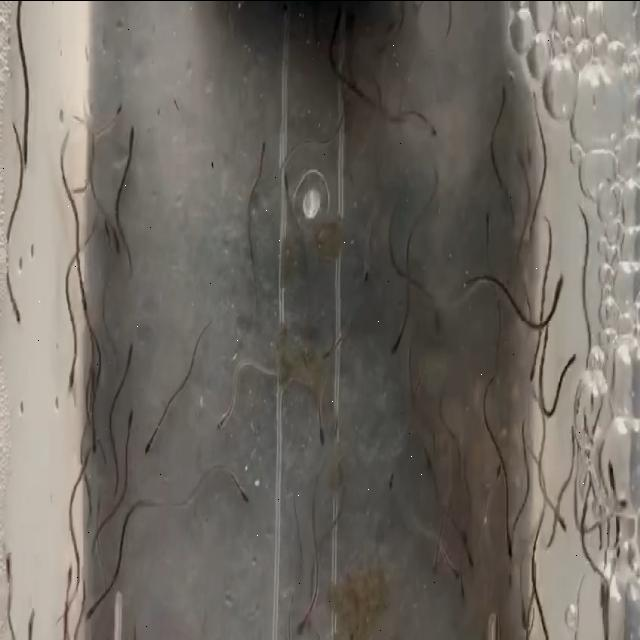active_glass_eel: (246, 118, 270, 168), (322, 322, 348, 364), (386, 322, 414, 359), (309, 406, 330, 455), (229, 475, 252, 517), (122, 332, 141, 378), (279, 155, 300, 195), (442, 550, 459, 598), (543, 294, 566, 328), (426, 530, 442, 578), (557, 352, 576, 392), (23, 592, 38, 640), (419, 115, 443, 145), (495, 78, 512, 120), (292, 605, 312, 640), (213, 404, 230, 445), (327, 15, 342, 57), (525, 348, 541, 386), (2, 546, 16, 588), (108, 233, 125, 266), (123, 406, 137, 446), (122, 119, 138, 153), (479, 208, 494, 244), (516, 572, 527, 621), (464, 532, 478, 570), (454, 490, 470, 522), (60, 560, 78, 588), (504, 538, 518, 574), (388, 446, 400, 486), (84, 425, 100, 454), (140, 433, 154, 465), (500, 520, 512, 554), (98, 217, 115, 240), (553, 504, 567, 530), (66, 362, 78, 392), (14, 298, 24, 332), (21, 138, 31, 170), (494, 462, 504, 494), (85, 600, 96, 622), (363, 268, 373, 292)
